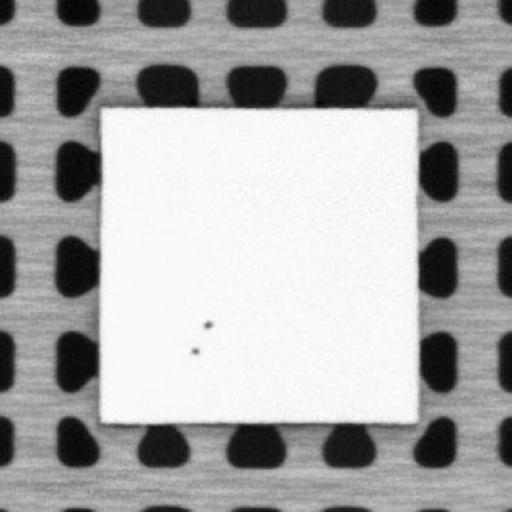DIE_INK: (199, 316, 214, 328), (187, 343, 199, 357)
